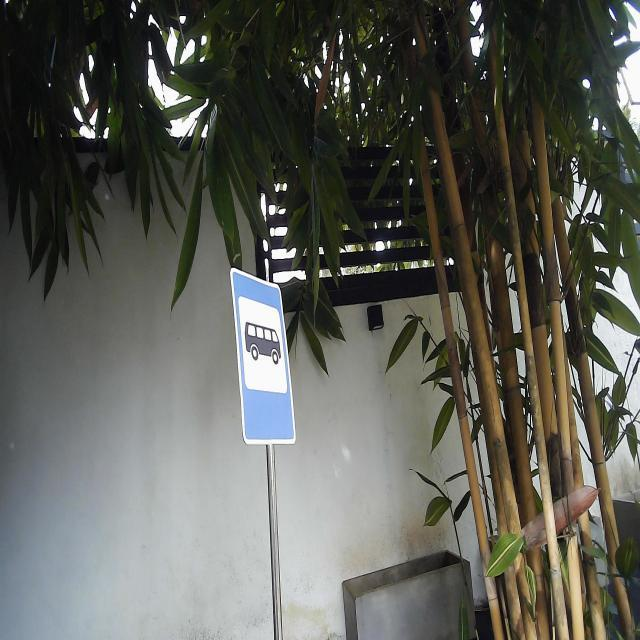bus_stop: (228, 266, 298, 448)
